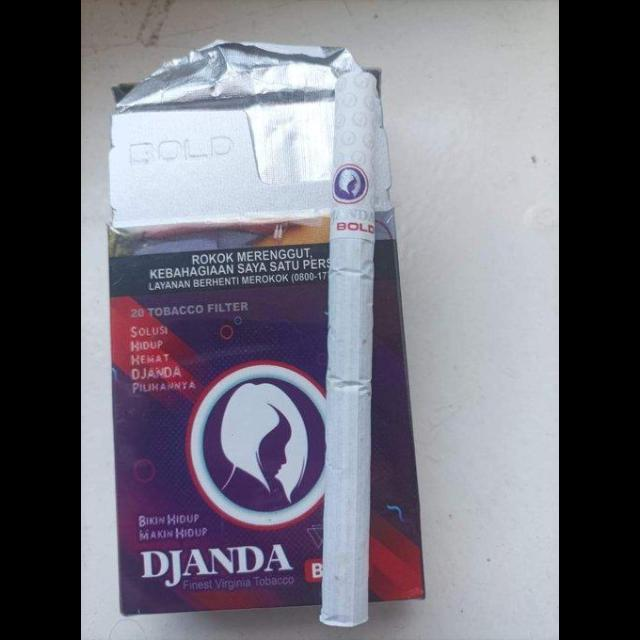rokok: (316, 57, 396, 629)
